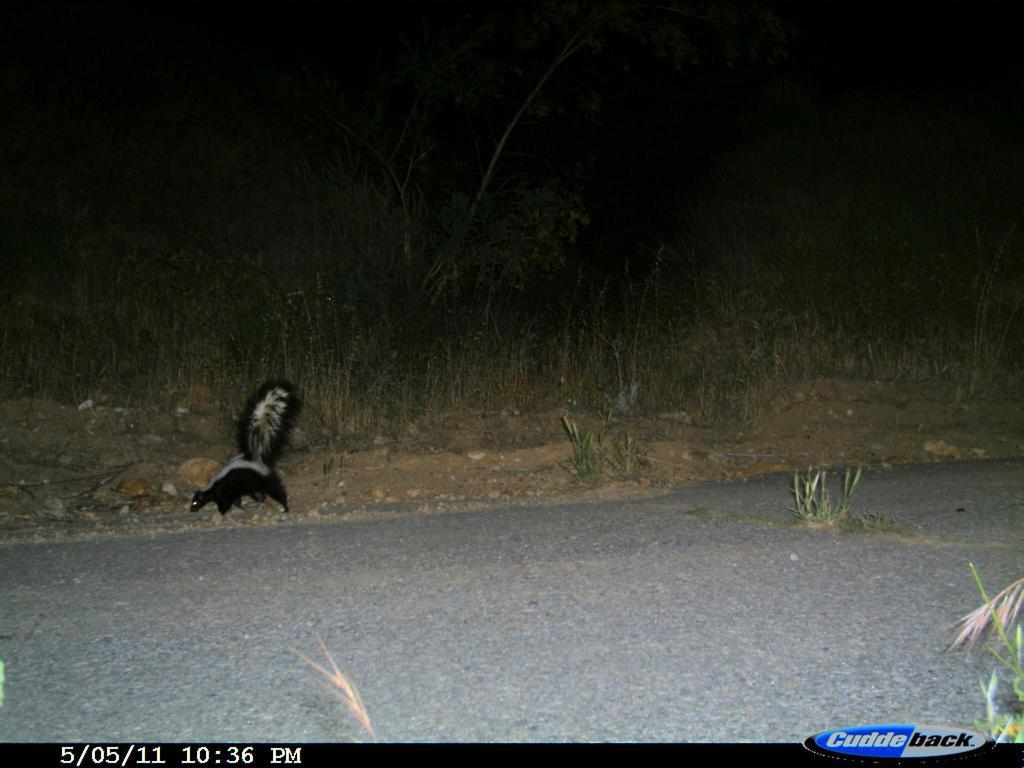skunk: (180, 373, 322, 538)
